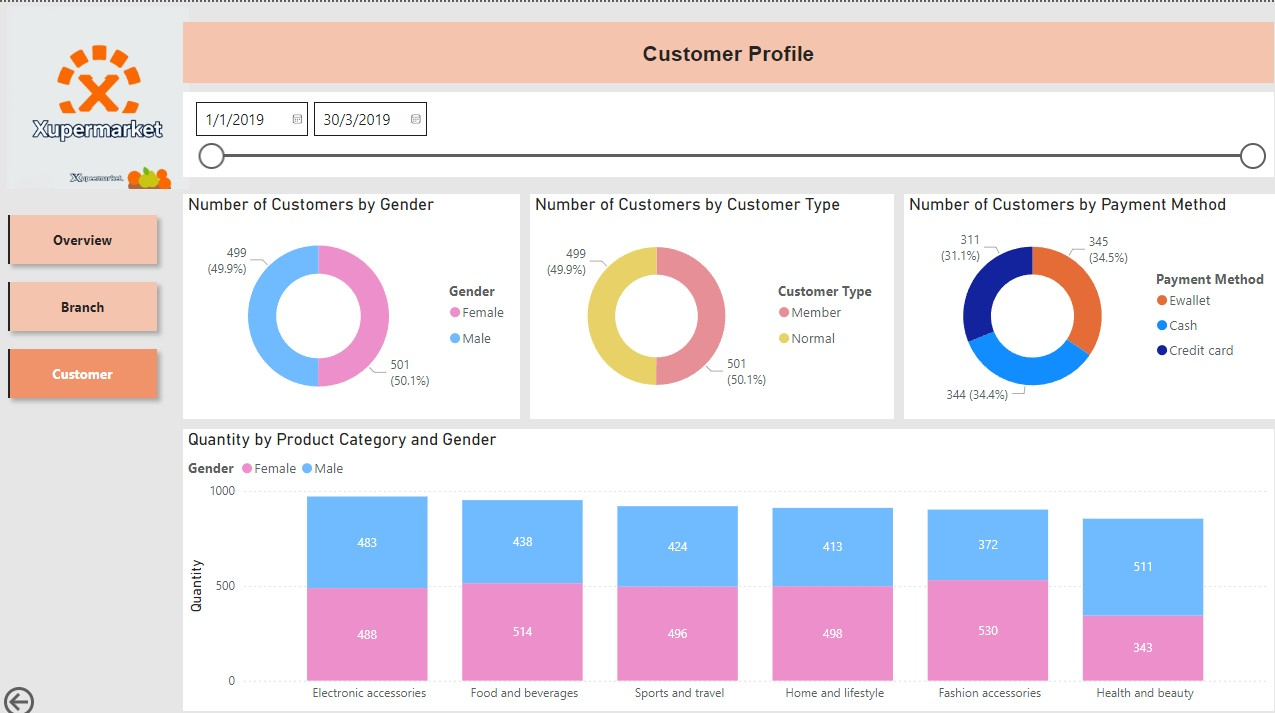

This screenshot's page, from the dashboard's own definition file:
{"tool":"powerbi","page":{"name":"Customer","canvas":[1280,720],"ordinal":2},"visuals":[{"type":"actionButton","box":[0,680.1,99.7,39.9],"z":0},{"type":"pageNavigator","box":[0,204,166.5,202.9],"z":1},{"type":"image","box":[0,0,198.2,192.3],"z":2},{"type":"textbox","box":[184.1,19.9,1090.6,61],"z":3},{"type":"donutChart","fields":{"Category":["transformed_data_csv.gender"],"Y":["CountNonNull(transformed_data_csv.gender)"]},"box":[184.1,192.3,336.5,225.1],"z":4},{"type":"slicer","fields":{"Values":["transformed_data_csv.date"]},"box":[184.1,90.3,1090.6,84.4],"z":5},{"type":"donutChart","fields":{"Category":["transformed_data_csv.customer_type"],"Y":["CountNonNull(transformed_data_csv.customer_type)"]},"box":[530.6,192.3,364.7,225.1],"z":6},{"type":"columnChart","fields":{"Category":["transformed_data_csv.product_line"],"Y":["Sum(transformed_data_csv.quantity)"],"Series":["transformed_data_csv.gender"]},"box":[184.1,426.8,1090.6,282.6],"z":7},{"type":"donutChart","fields":{"Category":["transformed_data_csv.payment_method"],"Y":["CountNonNull(transformed_data_csv.payment_method)"]},"box":[904.8,192.3,375.2,225.1],"z":8}]}

Visuals, with their boxes on the page's 1280x720 design canvas (x1, y1, x2, y2). These are canvas units, not pixel positions in the 1275x713 screenshot, which may show the page scaled, cropped or inside an application window:
actionButton: 0/680/100/720
pageNavigator: 0/204/166/407
image: 0/0/198/192
textbox: 184/20/1275/81
donutChart - transformed_data_csv.gender x CountNonNull(transformed_data_csv.gender): 184/192/521/417
slicer - transformed_data_csv.date: 184/90/1275/175
donutChart - transformed_data_csv.customer_type x CountNonNull(transformed_data_csv.customer_type): 531/192/895/417
columnChart - transformed_data_csv.product_line x Sum(transformed_data_csv.quantity): 184/427/1275/709
donutChart - transformed_data_csv.payment_method x CountNonNull(transformed_data_csv.payment_method): 905/192/1280/417
